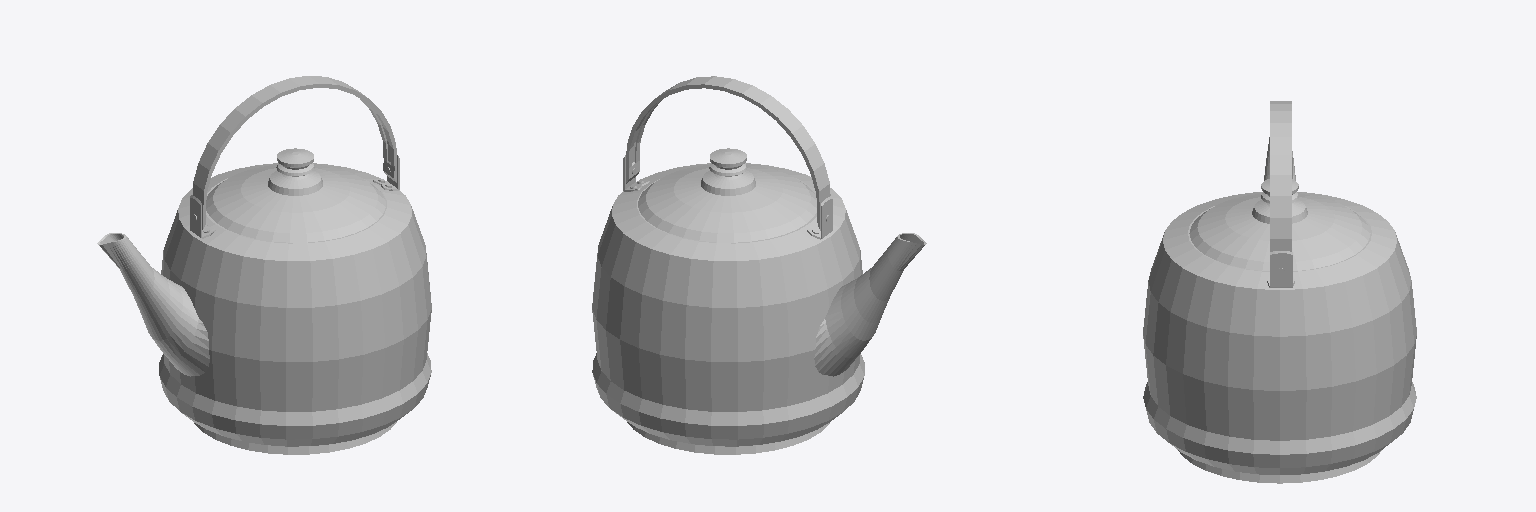
Rendered from чайник.obj.
3 renders of one model, left to right at view 1: azimuth 30°, elevation 25°; view 2: azimuth 150°, elevation 25°; view 3: azimuth 270°, elevation 25°, orthographic.
Parts seen in each view (by area): view 1: Cylinder.003; view 2: Cylinder.003; view 3: Cylinder.003.
Boxes of the visible parts, <box> form: Cylinder.003: <box>97,76,431,454</box>; Cylinder.003: <box>592,76,926,454</box>; Cylinder.003: <box>1143,101,1416,483</box>.
Bounding box in the file's own units: 3.13 × 3.1 × 2.35.